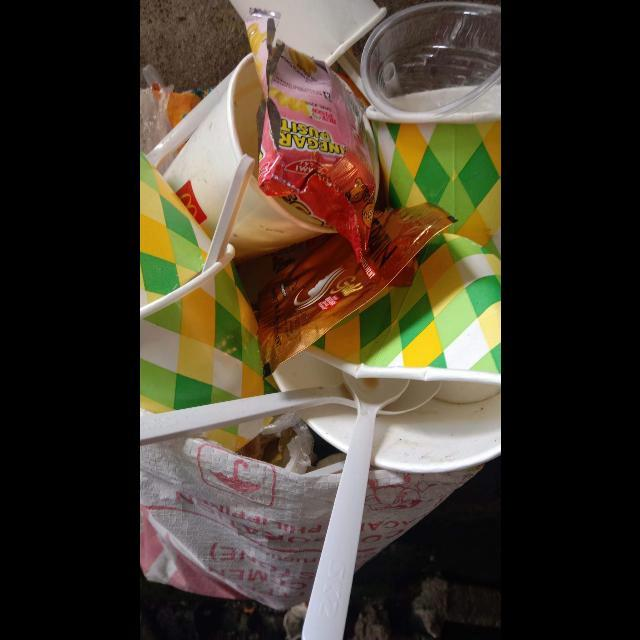cardboard: (273, 230, 501, 473), (139, 243, 281, 451), (365, 88, 501, 258), (139, 150, 221, 309)
food_wrapper: (245, 9, 380, 264)
plastic_sachet: (256, 203, 456, 376)
